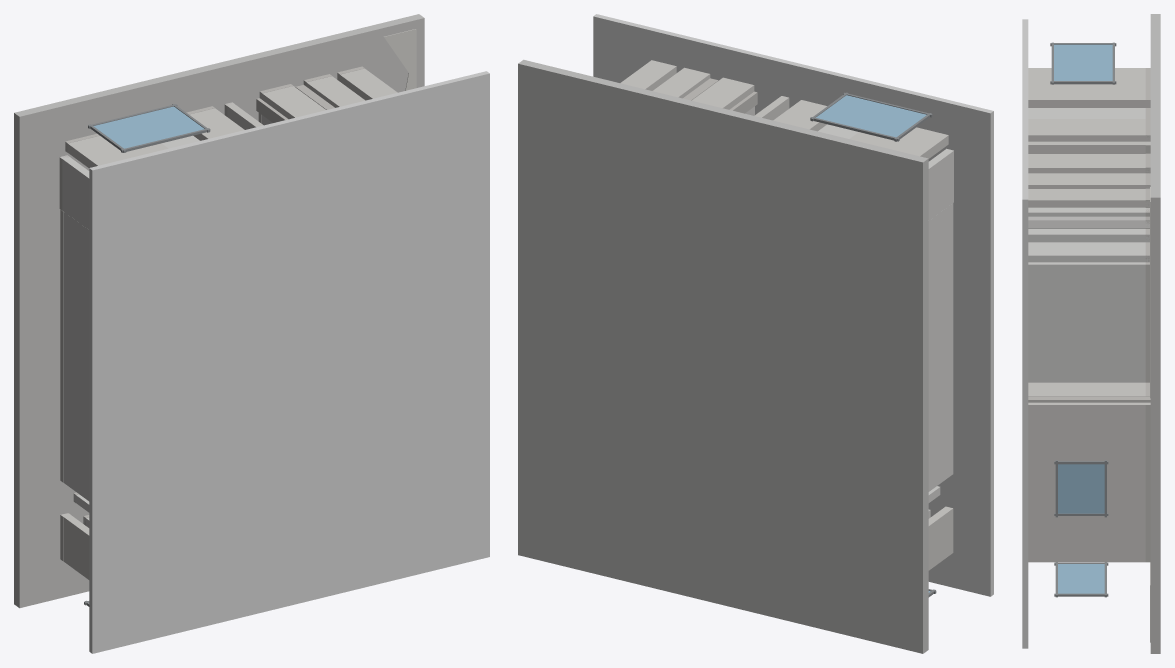
File: bim_bd2838f7769a.glb
3 views of the same model, side by side, from view 1: azimuth 30°, elevation 25°; view 2: azimuth 150°, elevation 25°; view 3: azimuth 270°, elevation 25° (orthographic). The views are drawn at different scales.
Visible parts, largest first — view 1: arch_geometry_1, arch_geometry_0, arch_geometry_2, arch_geometry_499, arch_geometry_254, arch_geometry_28, arch_geometry_164, arch_geometry_60, arch_geometry_3, arch_geometry_436, arch_geometry_116, arch_geometry_246 (+1 smaller); view 2: arch_geometry_0, arch_geometry_1, arch_geometry_2, arch_geometry_499, arch_geometry_28, arch_geometry_254, arch_geometry_164, arch_geometry_60, arch_geometry_116, arch_geometry_246, arch_geometry_342; view 3: arch_geometry_8, arch_geometry_30, arch_geometry_0, arch_geometry_1, arch_geometry_28, arch_geometry_342, arch_geometry_16, arch_geometry_60, arch_geometry_504, arch_geometry_116, arch_geometry_499, arch_geometry_246 (+11 smaller).
Part boxes in pixels (left/top/right/bottom): arch_geometry_1: left=89, top=71, right=489, bottom=653; arch_geometry_0: left=14, top=14, right=424, bottom=608; arch_geometry_2: left=63, top=211, right=89, bottom=501; arch_geometry_499: left=93, top=106, right=204, bottom=148; arch_geometry_254: left=60, top=155, right=89, bottom=229; arch_geometry_28: left=65, top=136, right=168, bottom=167; arch_geometry_164: left=61, top=514, right=89, bottom=579; arch_geometry_60: left=259, top=86, right=325, bottom=119; arch_geometry_3: left=60, top=209, right=63, bottom=482; arch_geometry_436: left=384, top=29, right=416, bottom=90; arch_geometry_116: left=337, top=68, right=397, bottom=100; arch_geometry_246: left=306, top=76, right=365, bottom=107; arch_geometry_0: left=518, top=59, right=928, bottom=653; arch_geometry_1: left=593, top=14, right=993, bottom=596; arch_geometry_2: left=928, top=203, right=953, bottom=491; arch_geometry_499: left=816, top=95, right=926, bottom=137; arch_geometry_28: left=849, top=127, right=948, bottom=158; arch_geometry_254: left=928, top=148, right=953, bottom=220; arch_geometry_164: left=928, top=506, right=953, bottom=570; arch_geometry_60: left=692, top=77, right=754, bottom=109; arch_geometry_116: left=620, top=60, right=676, bottom=90; arch_geometry_246: left=653, top=67, right=710, bottom=98; arch_geometry_342: left=773, top=100, right=826, bottom=131; arch_geometry_8: left=1028, top=402, right=1150, bottom=562; arch_geometry_30: left=1028, top=262, right=1145, bottom=382; arch_geometry_0: left=1150, top=14, right=1160, bottom=653; arch_geometry_1: left=1022, top=19, right=1028, bottom=648; arch_geometry_28: left=1028, top=68, right=1150, bottom=107; arch_geometry_342: left=1028, top=119, right=1150, bottom=141; arch_geometry_16: left=1028, top=242, right=1149, bottom=262; arch_geometry_60: left=1028, top=154, right=1150, bottom=173; arch_geometry_504: left=1058, top=464, right=1104, bottom=513; arch_geometry_116: left=1028, top=189, right=1149, bottom=207; arch_geometry_499: left=1054, top=44, right=1112, bottom=80; arch_geometry_246: left=1028, top=173, right=1150, bottom=188.
Size of the model in its own units: 10.66 by 12.36 by 3.4.
